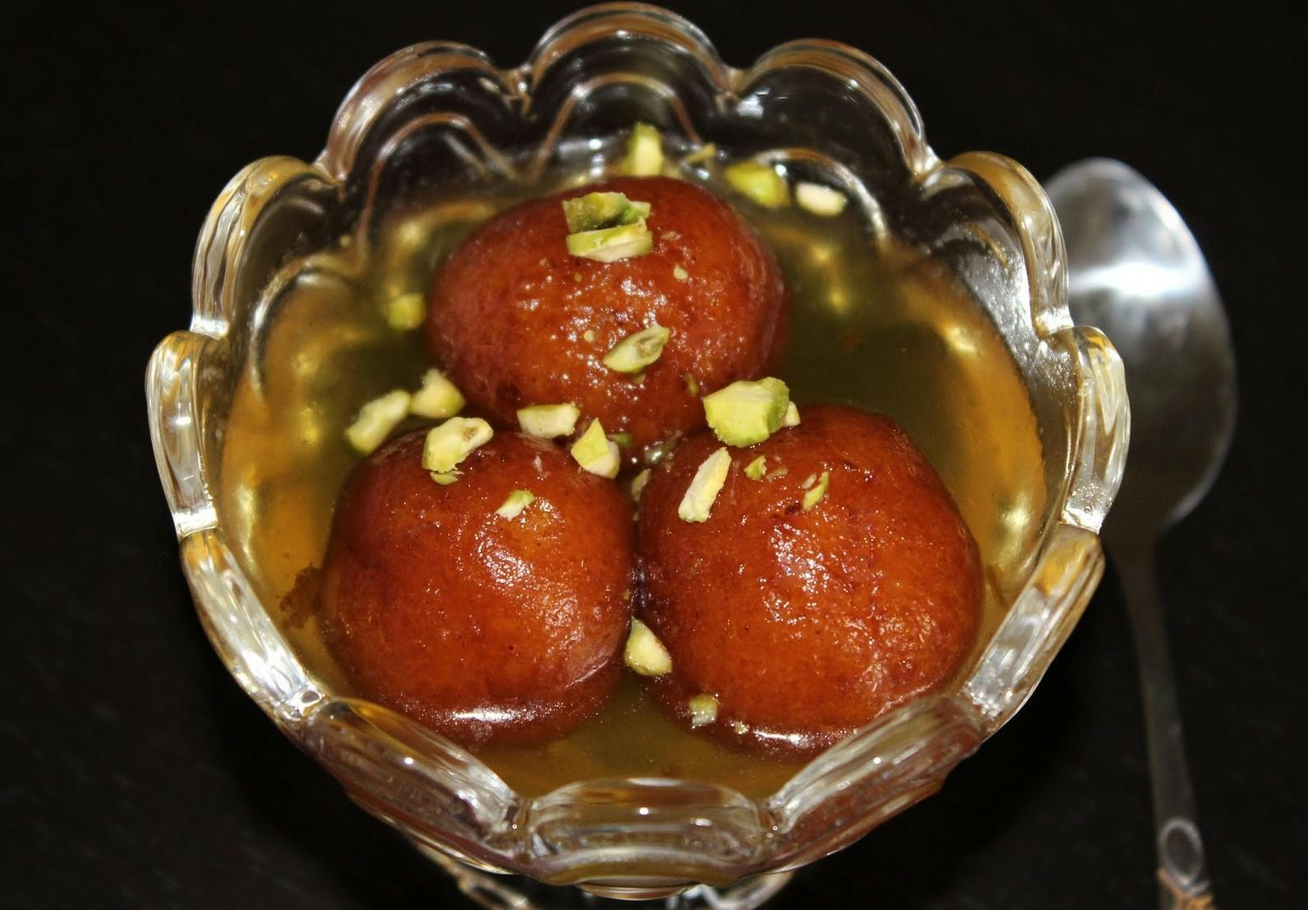GulabJamun: (636, 375, 986, 752), (423, 179, 788, 478), (314, 426, 630, 749)
